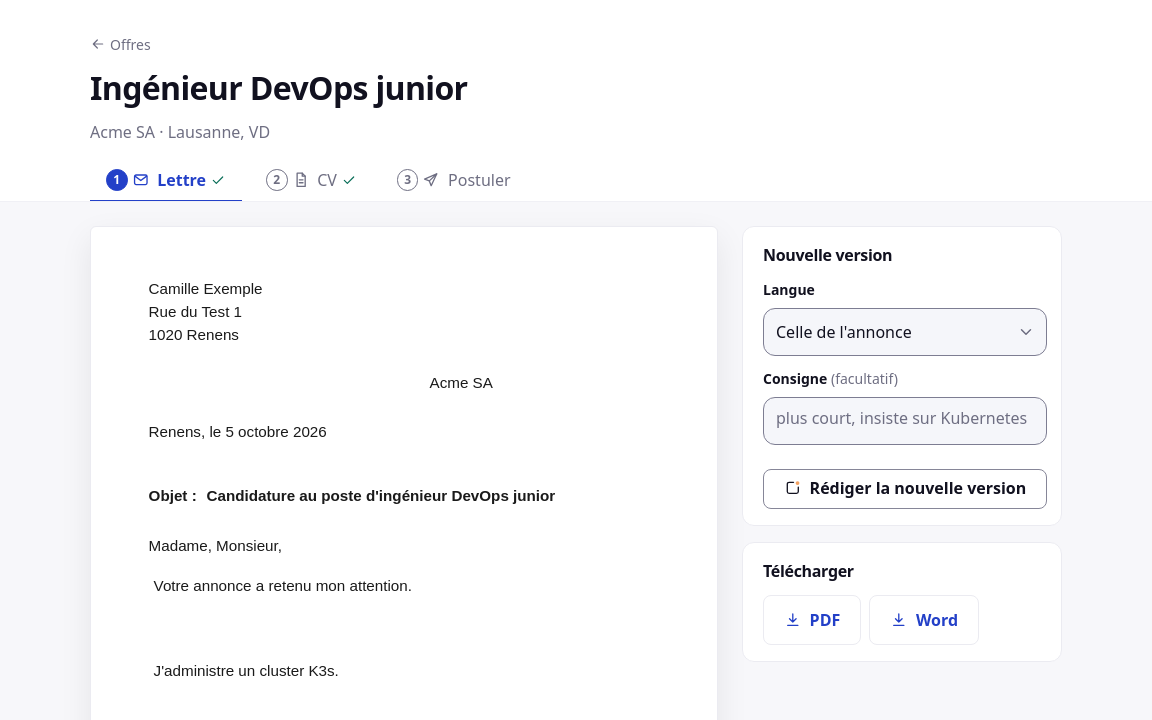
Test: PreparationView › consigne hors de portée : une ligne sous la consigne, gardée, pas de nouvelle version
Type "change mon téléphone" into the text box with test id "instruction" at (905, 421), box [763,397,1047,445]
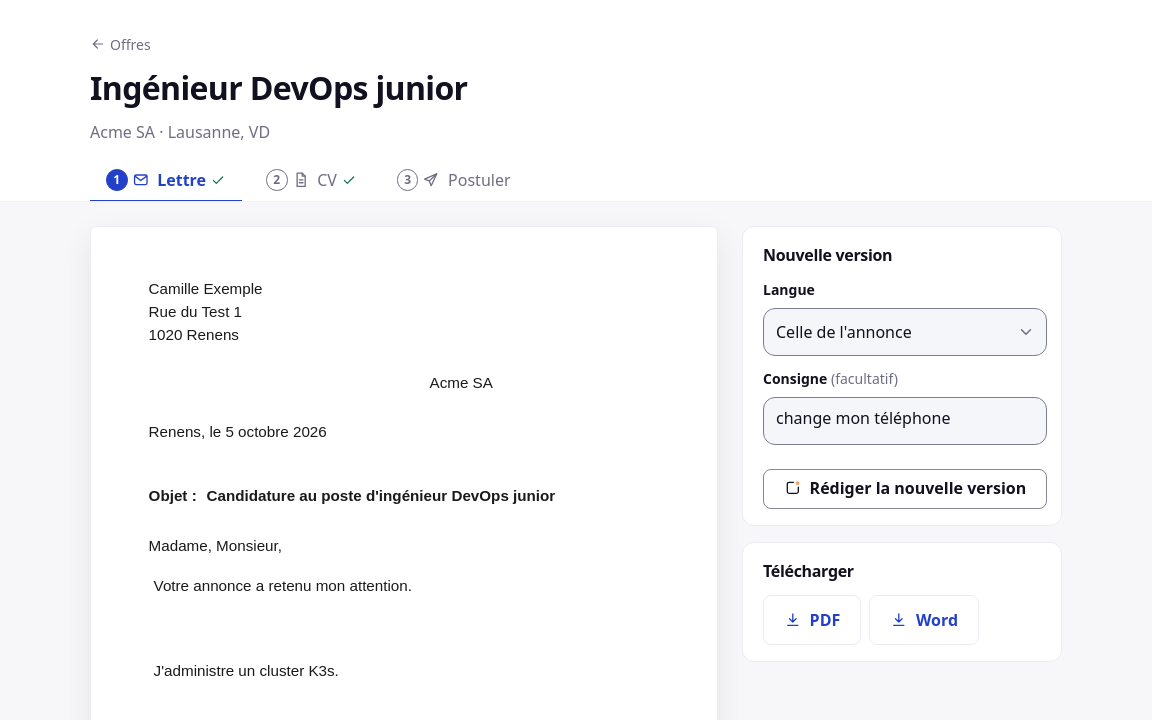
Click the button with test id "write" at (905, 489), box [763,469,1047,509]
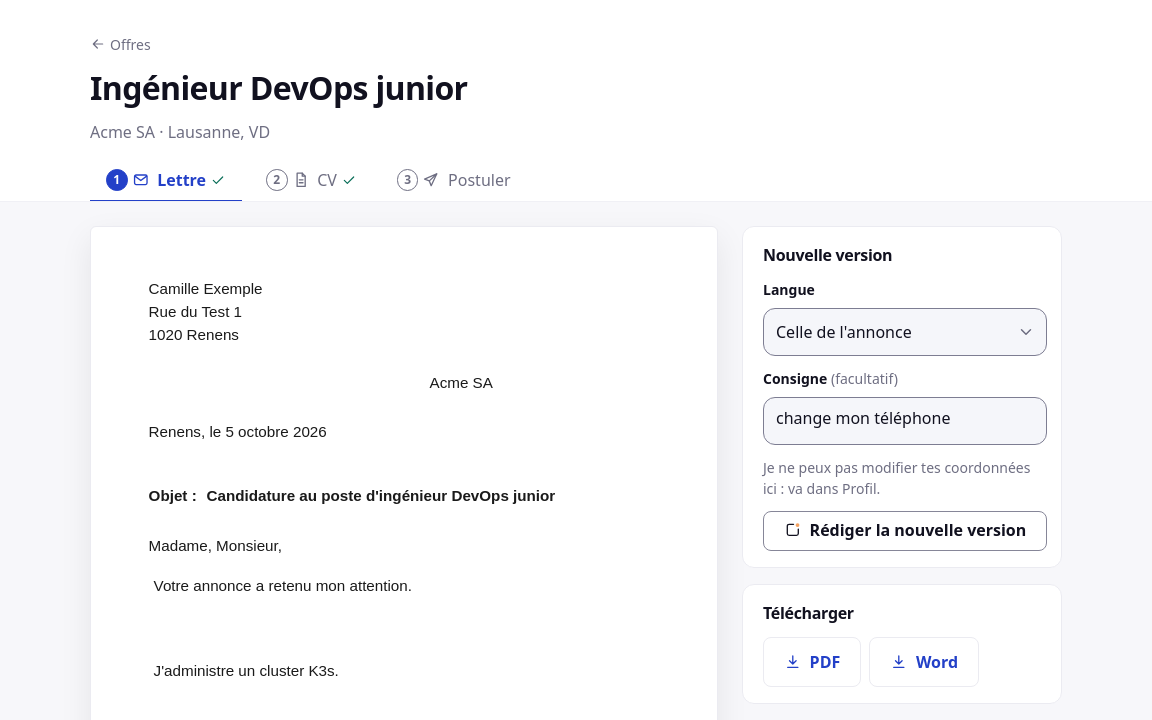
expect the text with test id "instruction-note" reads "Je ne peux pas modifier tes coordonnées ici : va dans Profil.": met, box [763,458,1030,498]
